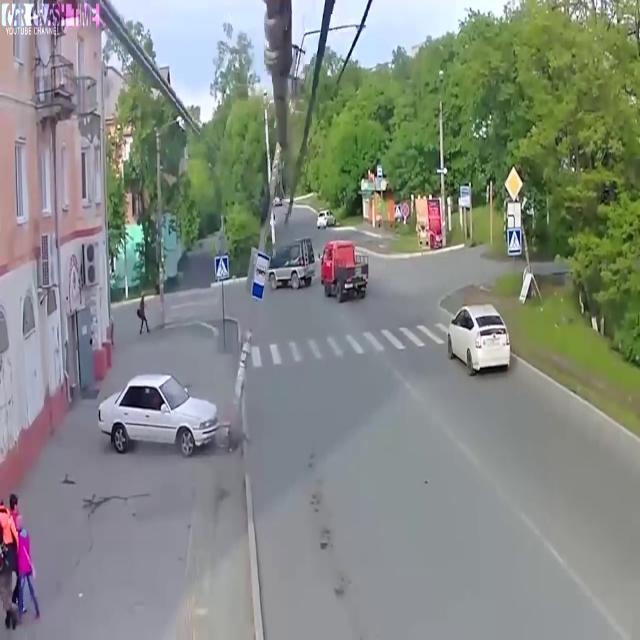Accident: (84, 333, 263, 492)
